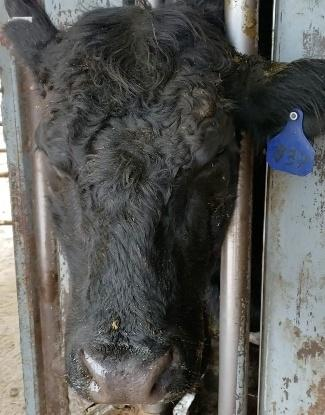muzzles: (61, 337, 205, 408)
